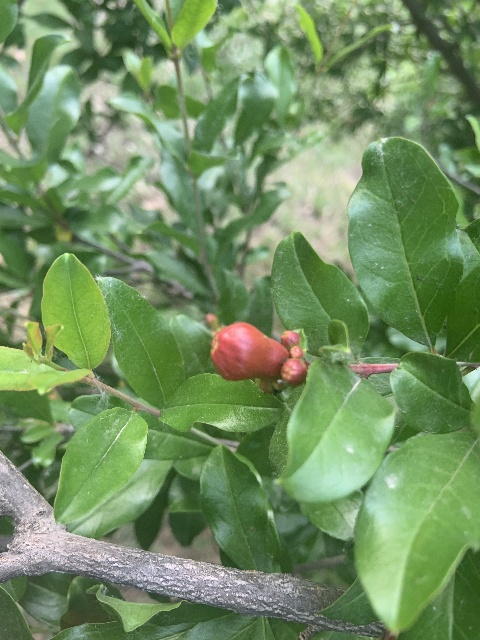bud: (210, 322, 288, 383), (279, 358, 307, 386), (280, 330, 301, 348), (288, 345, 303, 358)
